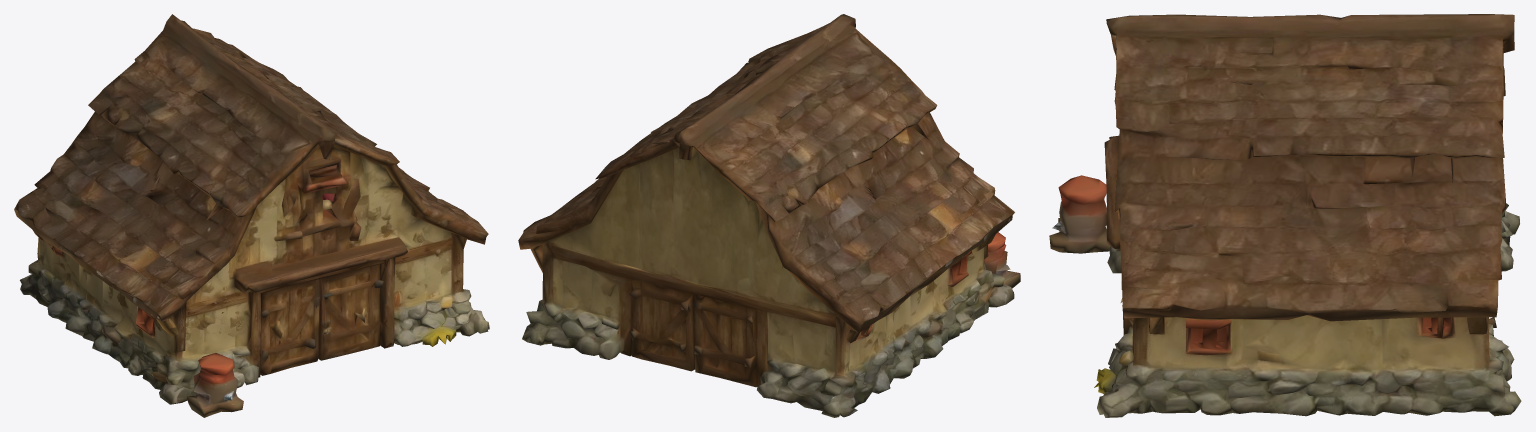
The model's file is tripo_storage_barn.glb.
3 renders of one model, left to right at view 1: azimuth 30°, elevation 25°; view 2: azimuth 150°, elevation 25°; view 3: azimuth 270°, elevation 25°, orthographic. The views are drawn at different scales.
Parts seen in each view (by area): view 1: storage_barn; view 2: storage_barn; view 3: storage_barn.
Part boxes in pixels (x1=…): storage_barn: x1=14, y1=14, x2=489, y2=417; storage_barn: x1=518, y1=14, x2=1020, y2=417; storage_barn: x1=1049, y1=14, x2=1521, y2=417.
Bounding box in the file's own units: 10.41 × 7 × 9.8.
1 material, 1 textured.
